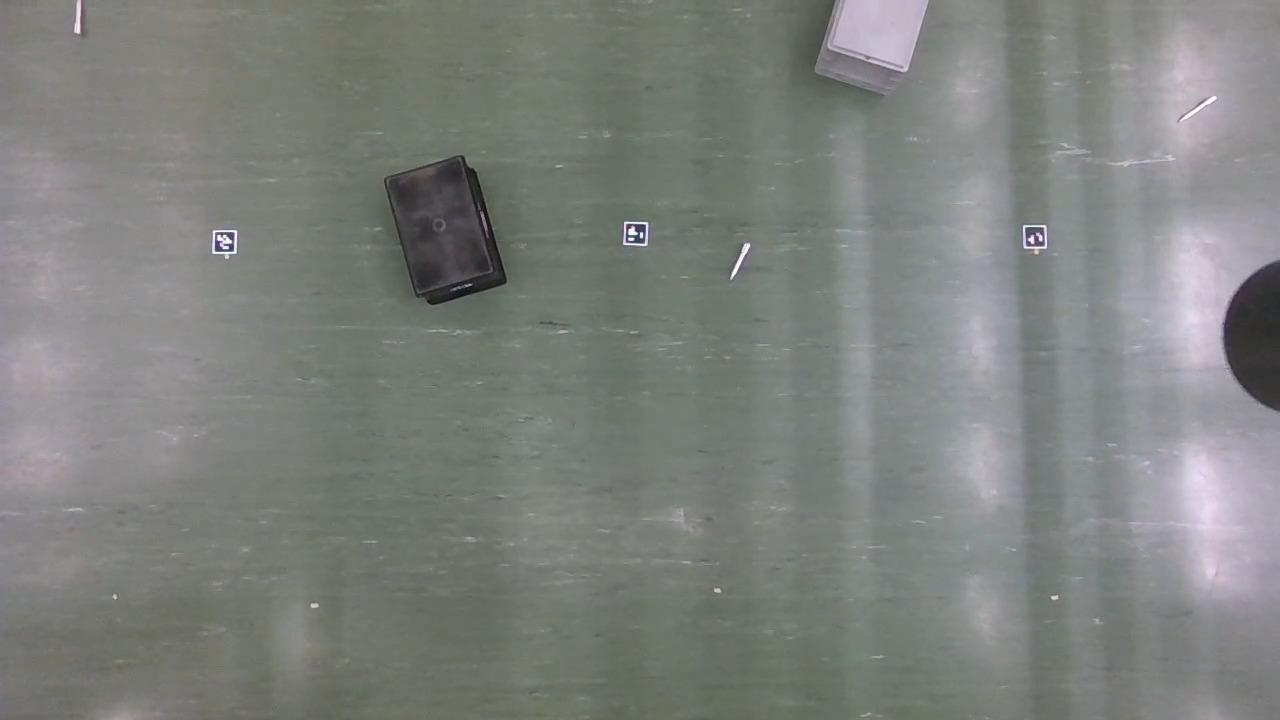probes: (1179, 96, 1215, 126), (730, 244, 749, 282), (74, 1, 84, 36)
rako: (384, 158, 506, 307), (812, 1, 929, 98)
